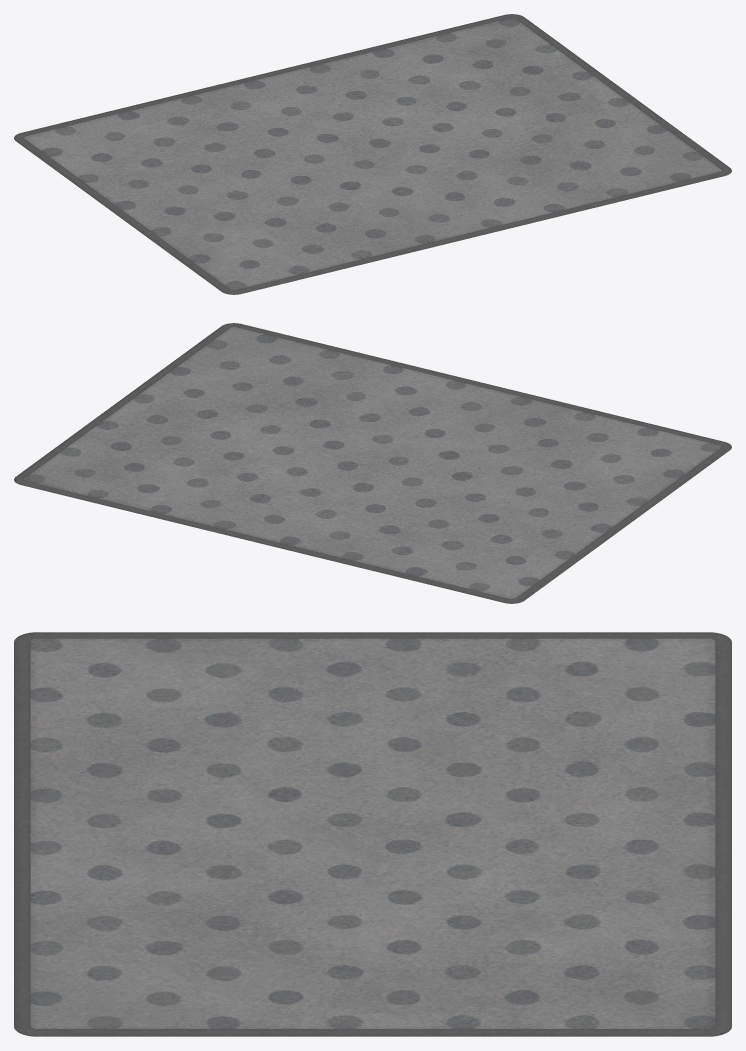
The model's file is RugRectDotL00.glb.
The picture shows the model from 3 angles, top to bottom: view 1: azimuth 30°, elevation 25°; view 2: azimuth 150°, elevation 25°; view 3: azimuth 270°, elevation 25°; orthographic projection. The views are drawn at different scales.
Parts seen in each view (by area): view 1: Edge__mMain; view 2: Edge__mMain; view 3: Edge__mMain.
Boxes of the visible parts, x1,y1,x2,y2 form: Edge__mMain: (14, 14, 731, 294); Edge__mMain: (14, 323, 731, 603); Edge__mMain: (14, 632, 731, 1036).
Bounding box in the file's own units: 40 × 0.03 × 30.
1 material, 1 textured.
